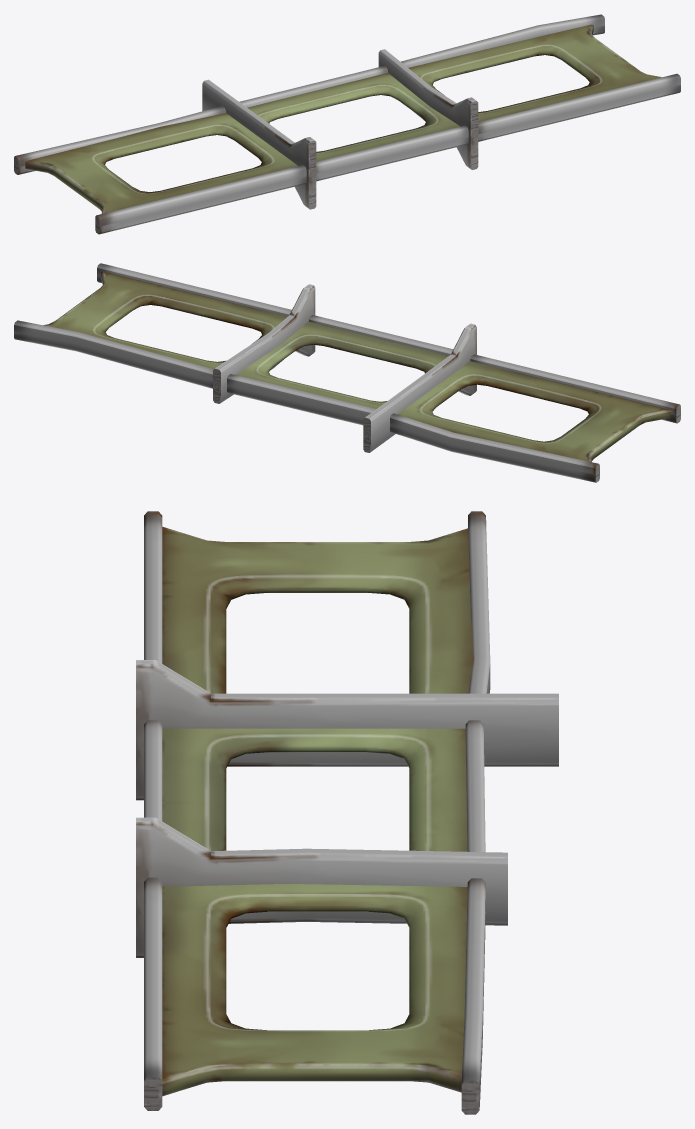
The model's file is HubWall7.FBX.
3 views of the same model, one above another, from view 1: azimuth 30°, elevation 25°; view 2: azimuth 150°, elevation 25°; view 3: azimuth 270°, elevation 25° (orthographic). The views are drawn at different scales.
Parts seen in each view (by area): view 1: HubWall7_LOD0; view 2: HubWall7_LOD0; view 3: HubWall7_LOD0.
Boxes of the visible parts, bbox=[...] form: HubWall7_LOD0: bbox=[14, 14, 680, 234]; HubWall7_LOD0: bbox=[14, 263, 680, 482]; HubWall7_LOD0: bbox=[136, 511, 558, 1114].
Size of what is drawn, in the model's own units: 14.71 by 1.64 by 4.62.
